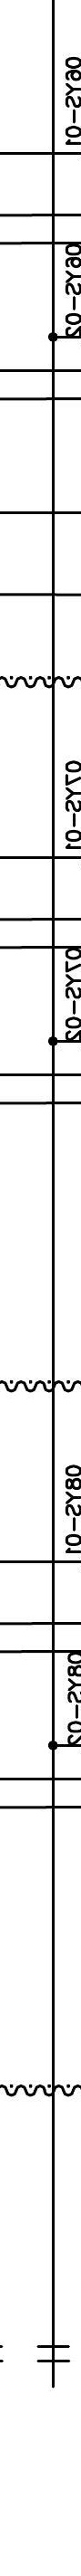115_buffer: (36, 2344, 71, 2362)
